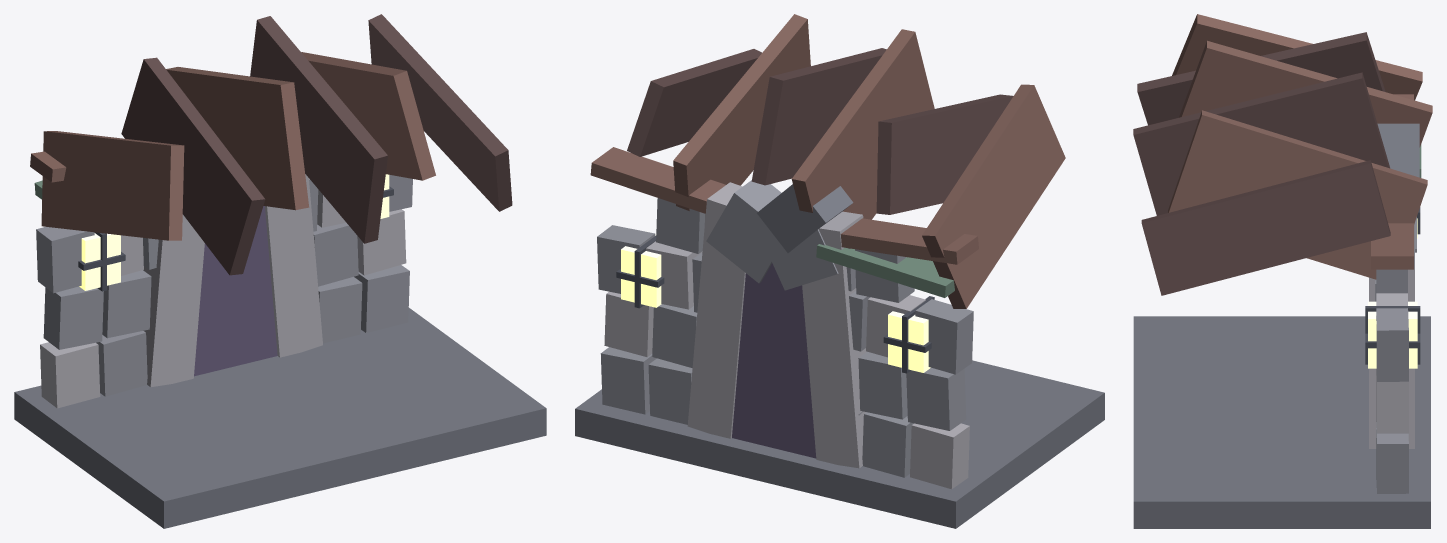
Rendered from ruined_house_arch.glb.
3 renders of one model, left to right at view 1: azimuth 30°, elevation 25°; view 2: azimuth 150°, elevation 25°; view 3: azimuth 270°, elevation 25°, orthographic.
Parts seen in each view (by area): view 1: Moonpost Ruined Arch House; view 2: Moonpost Ruined Arch House; view 3: Moonpost Ruined Arch House.
Boxes of the visible parts, <box> form: Moonpost Ruined Arch House: <box>14,14,546,528</box>; Moonpost Ruined Arch House: <box>575,14,1104,528</box>; Moonpost Ruined Arch House: <box>1133,14,1432,528</box>.
Bounding box in the file's own units: 0.62 × 0.5878 × 0.4226.
